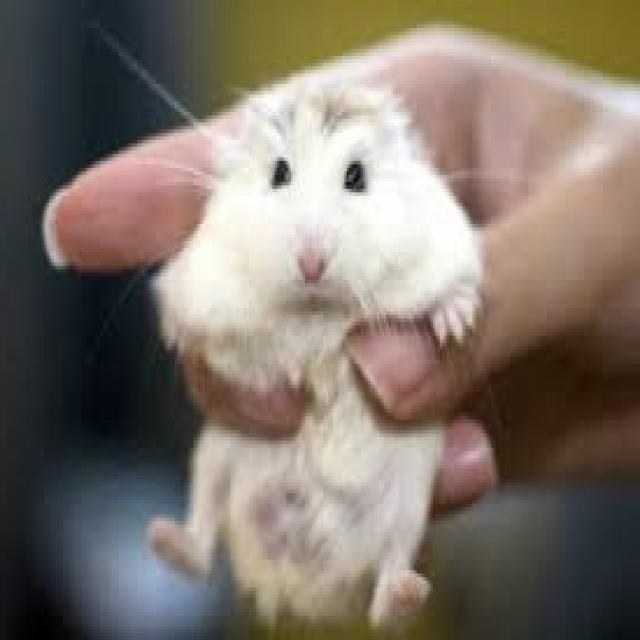hamster: (151, 87, 482, 623)
